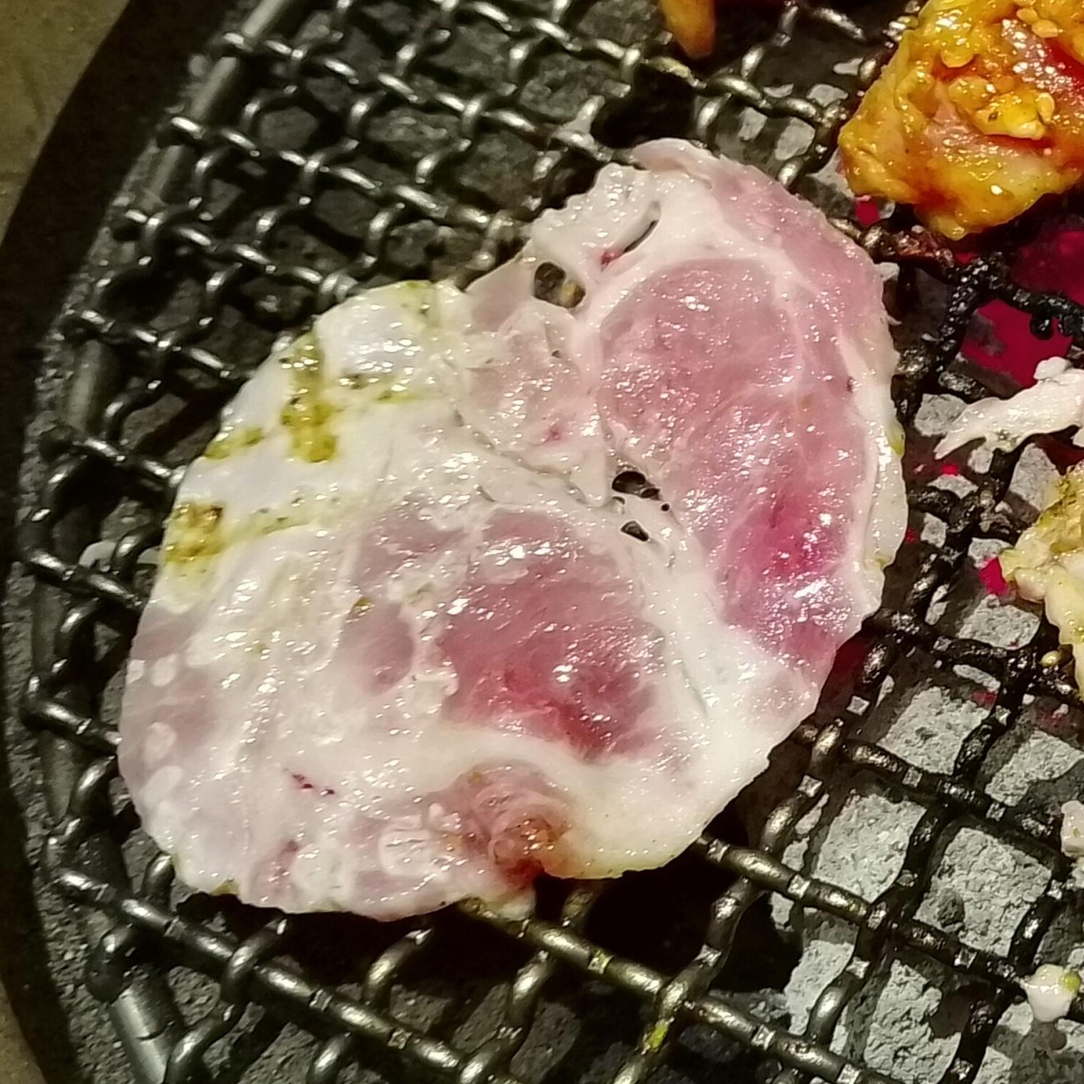Undercooked: (118, 139, 906, 920)
Well-Cooked: (836, 0, 1083, 241)
